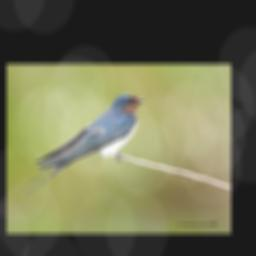Swallow: (18, 94, 146, 196)
